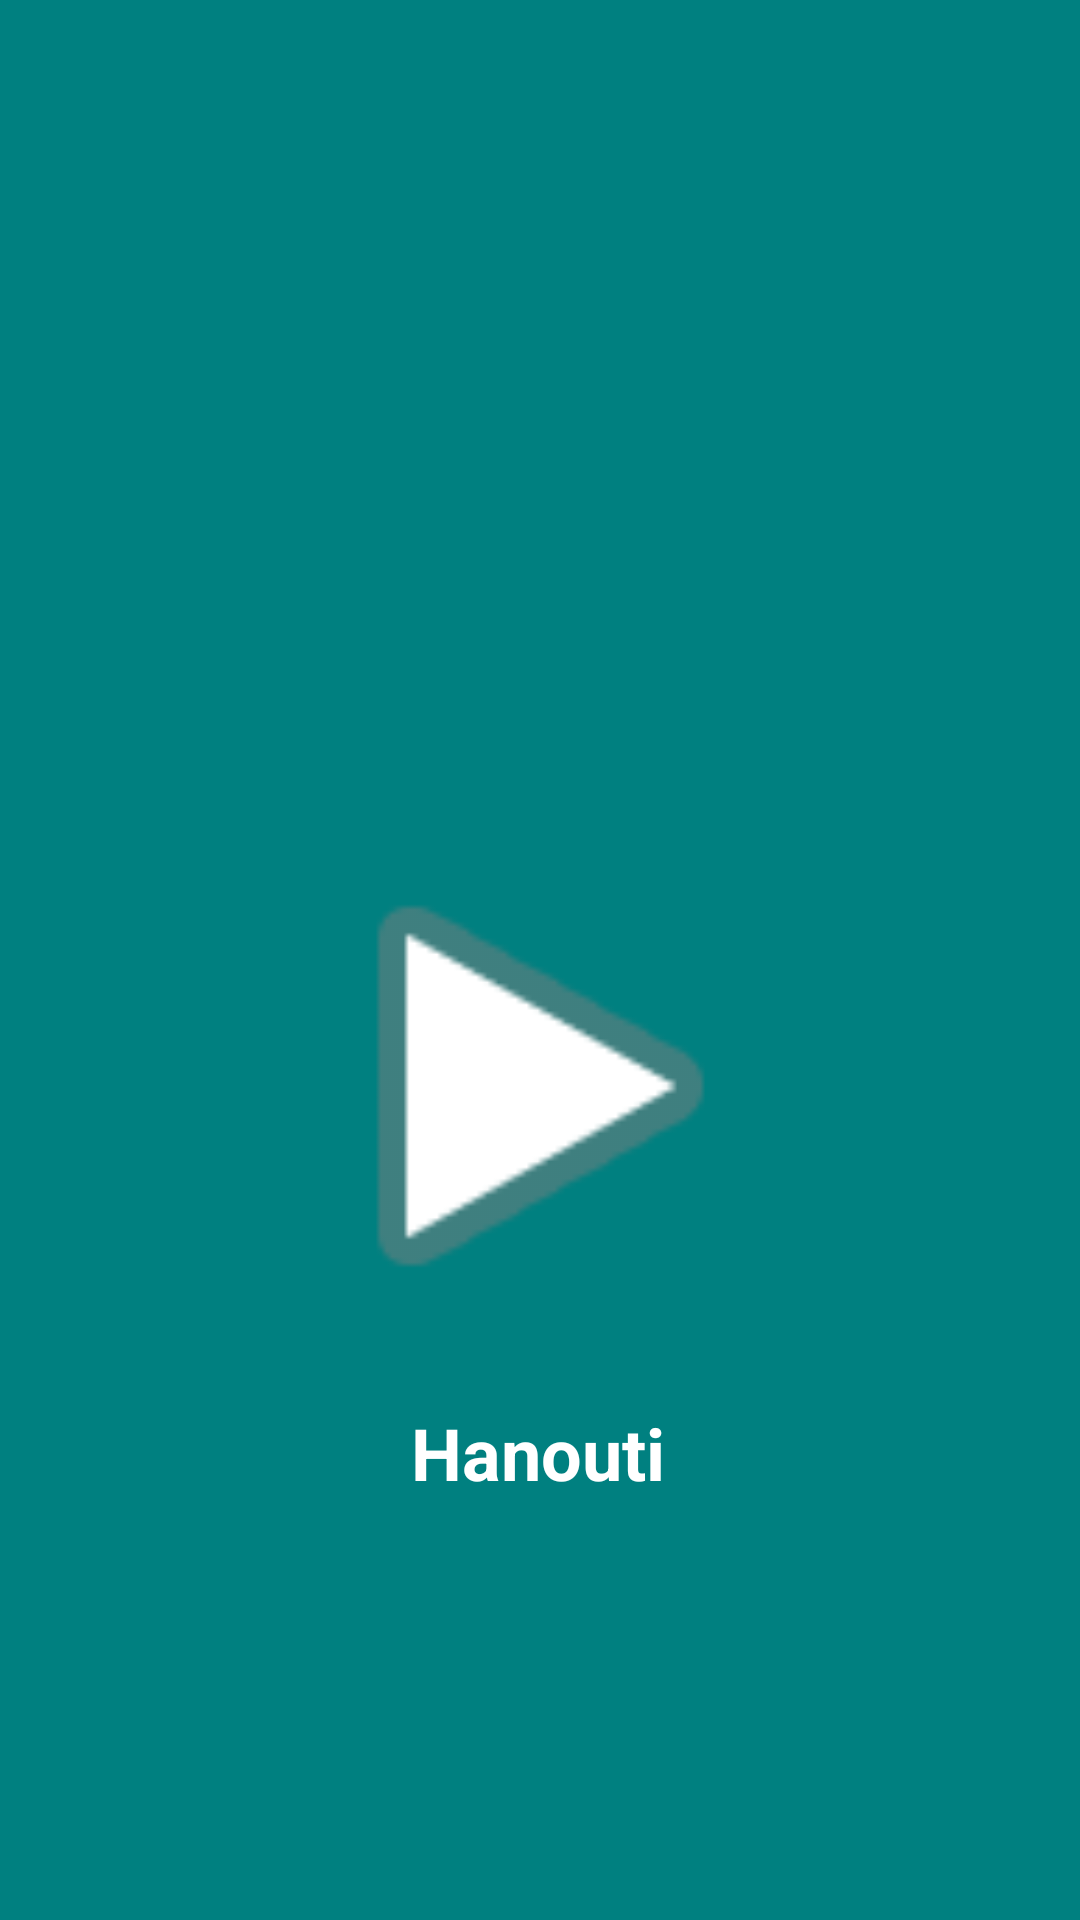

Icons on this 1080 x 1920 Android screen, each with its box as bbox=(x1, y1, x2, y2):
play: bbox=(378, 906, 703, 1266)
